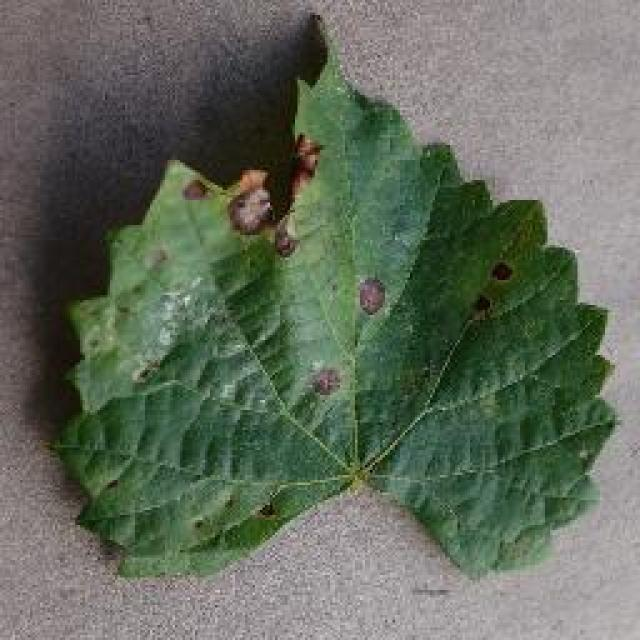Grape___Black_rot: (41, 9, 624, 584)
